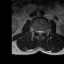CCS_normal: (39, 28, 41, 37)
LFS_normal: (43, 28, 45, 34)
LLS_normal: (41, 28, 43, 35)
RFS_normal: (35, 28, 37, 34)
RLS_normal: (37, 28, 39, 35)
